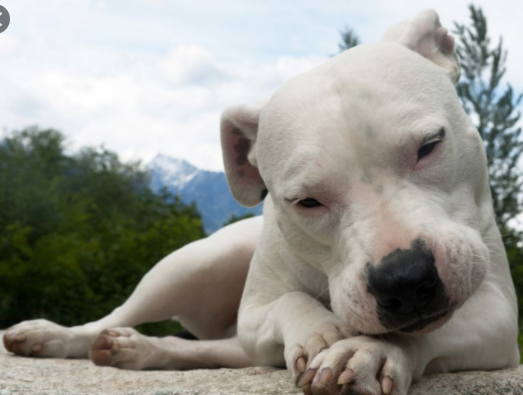dog: (4, 17, 516, 383)
